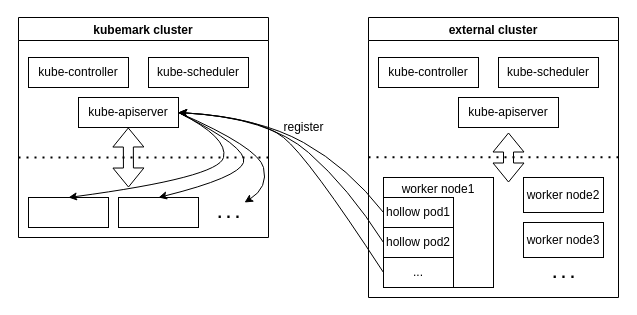
Image size: 637x315. Some labels were removed from this diagram. Here are the shapes that lost their labels. From the top down, the centre of each, then its label:
At (x=68, y=212): "hollow node1".
At (x=158, y=212): "hollow node2".
